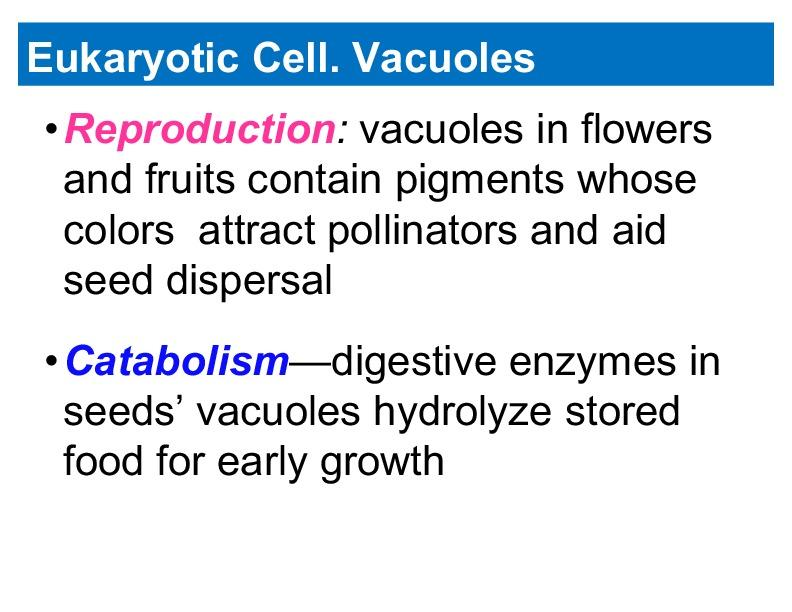paragraph: (37, 96, 754, 518)
subtitle: (64, 105, 358, 153), (67, 325, 310, 381)
title: (18, 26, 556, 82)
